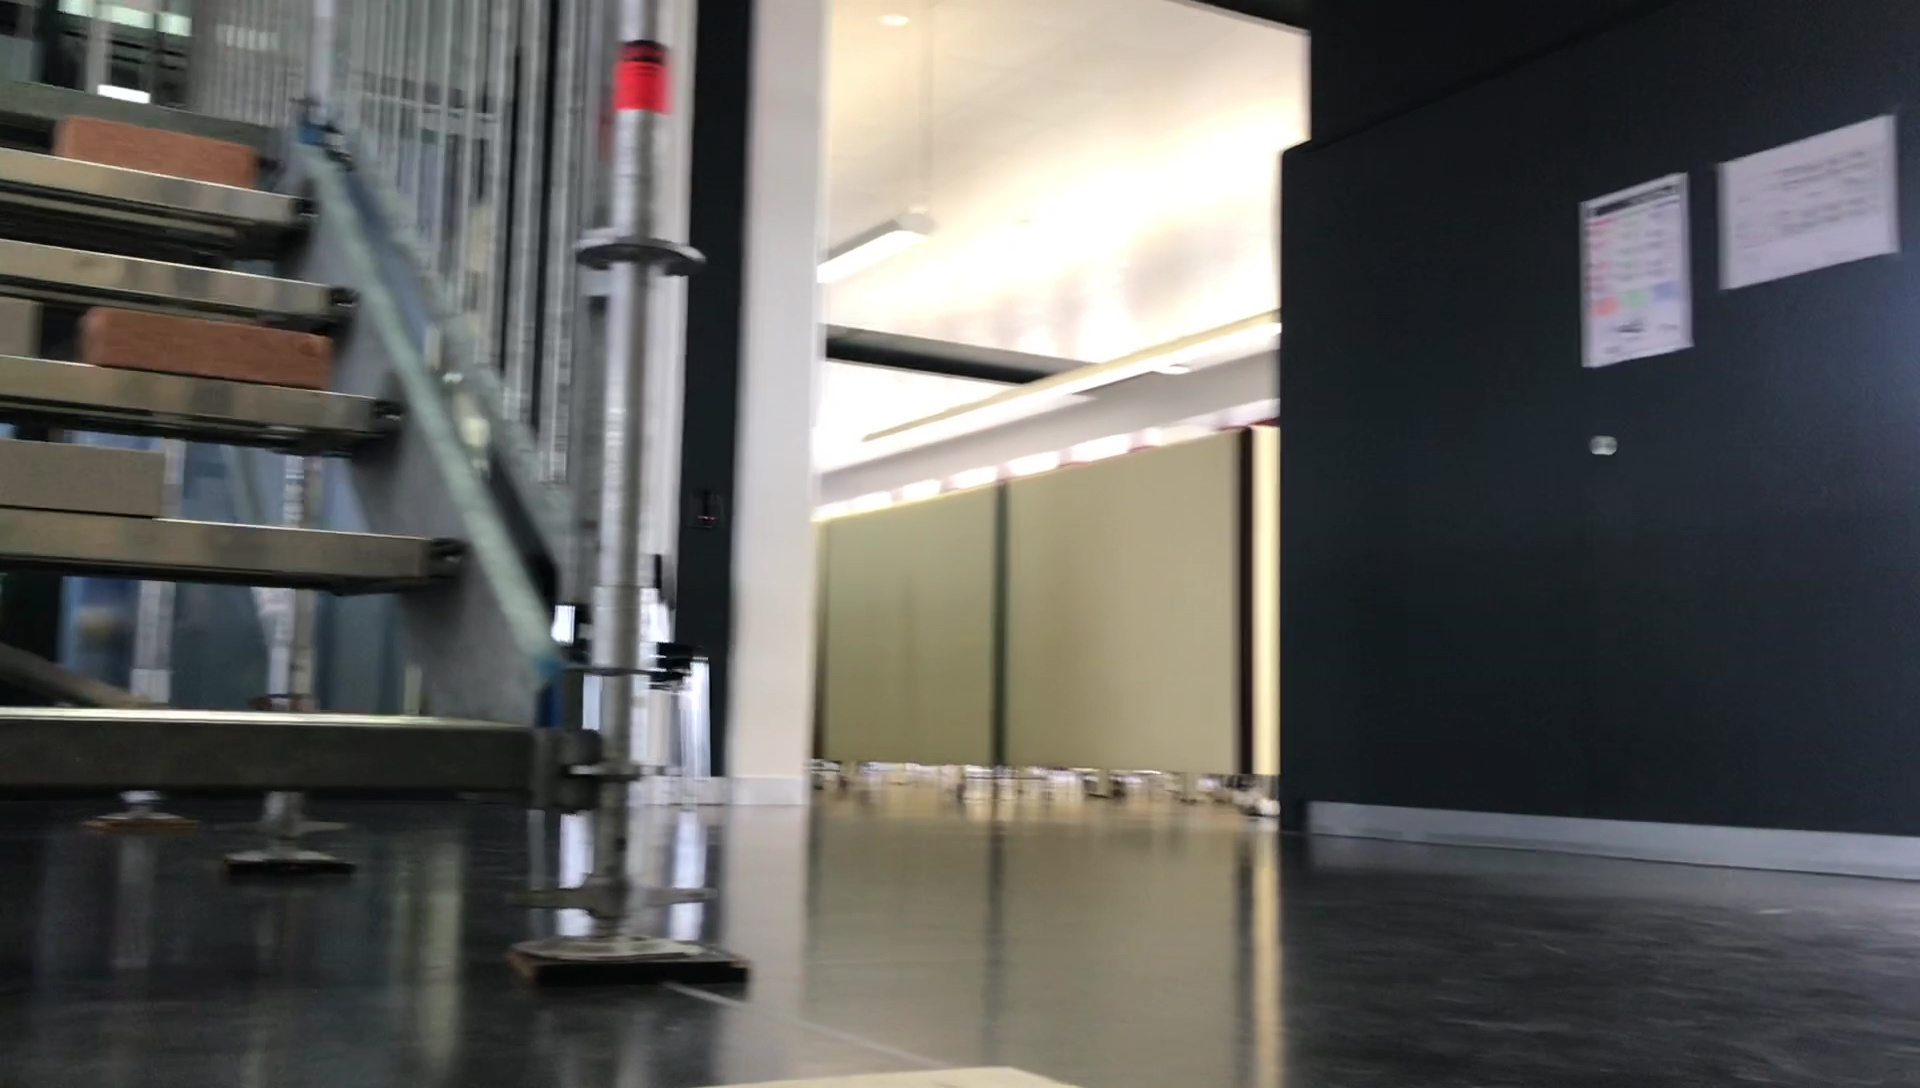brick: (51, 318, 330, 378), (0, 440, 162, 516), (65, 117, 255, 171)
edge: (0, 713, 547, 773), (0, 514, 465, 583), (0, 361, 409, 415), (0, 249, 356, 294), (0, 162, 318, 204), (0, 106, 258, 123)
steps: (0, 88, 617, 793)
